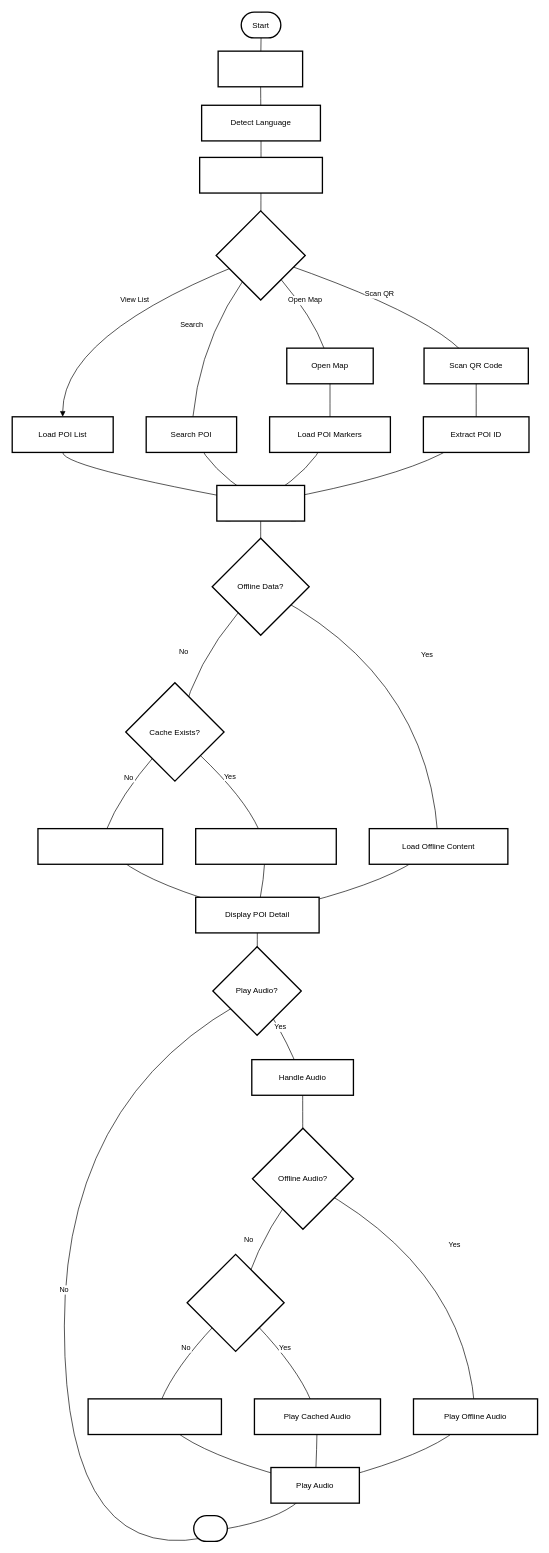
The diagram is 549 pixels wide and 1553 high, and some of its shapes have lost their labels. The box of each missing label's shape, as (x1, y1, x2, y2) in pixels:
Cache Audio?: (186, 1253, 284, 1352)
End: (193, 1515, 228, 1542)
Fetch from Server: (37, 828, 163, 865)
Generate TTS Audio: (87, 1398, 222, 1435)
Load Cached Content: (195, 828, 337, 865)
Load UI Language: (199, 156, 323, 193)
Open App: (217, 50, 303, 87)
Select POI: (216, 484, 305, 521)
User Action: (215, 210, 306, 300)
